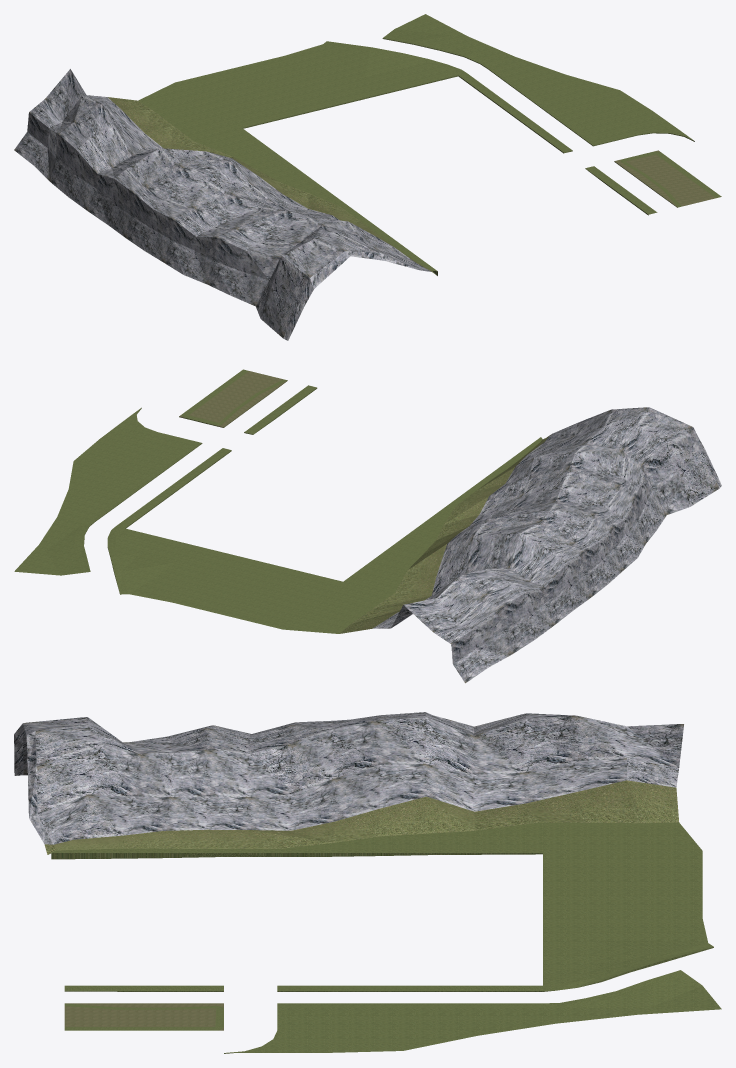
File: vgsecoast04.obj
3 renders of one model, top to bottom at view 1: azimuth 30°, elevation 25°; view 2: azimuth 150°, elevation 25°; view 3: azimuth 270°, elevation 25°, orthographic. The views are drawn at different scales.
Parts seen in each view (by area): view 1: vgsEcoast04; view 2: vgsEcoast04; view 3: vgsEcoast04.
Boxes of the visible parts, x1=… form: vgsEcoast04: x1=14, y1=14, x2=721, y2=340; vgsEcoast04: x1=14, y1=369, x2=721, y2=683; vgsEcoast04: x1=14, y1=712, x2=721, y2=1053.
Bounding box in the file's own units: 277 × 35.42 × 266.
Materials: 8 (8 with a texture image).
